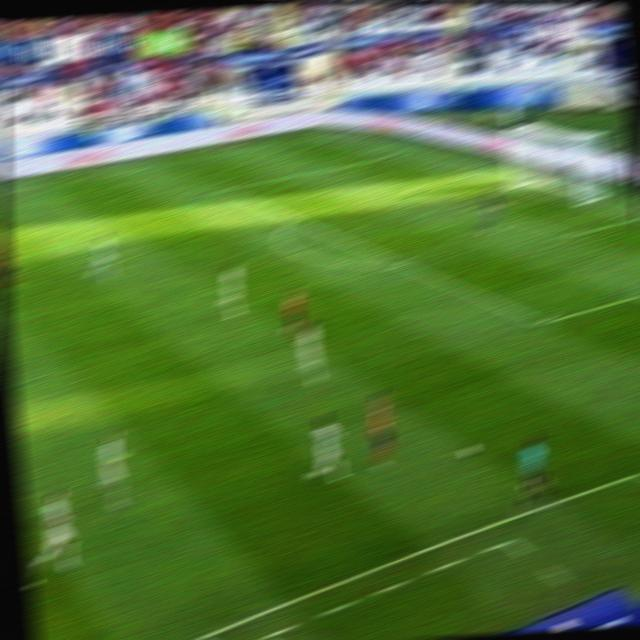bigarea_bottom_inner: (527, 309, 556, 333)
bigarea_top_inner: (211, 179, 236, 198)
bigarea_top_outter: (375, 146, 403, 163)
bottom_arc_area_intersection: (387, 254, 411, 272)
corner: (303, 128, 330, 142)
smallarea_bottom_inner: (555, 224, 581, 245)
smallarea_bottom_outter: (623, 207, 640, 226)
smallarea_top_inner: (398, 179, 426, 195)
smallarea_top_outter: (452, 166, 477, 183)
top_arc_area_intersection: (277, 208, 307, 229)
